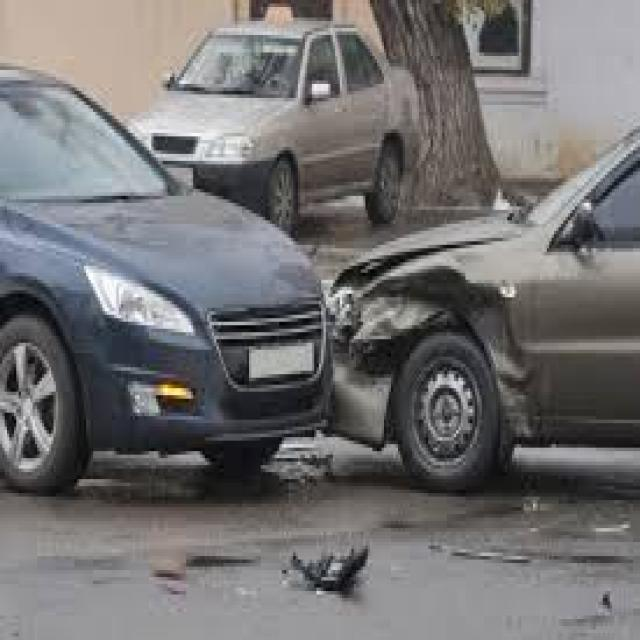accident: (76, 104, 555, 508)
